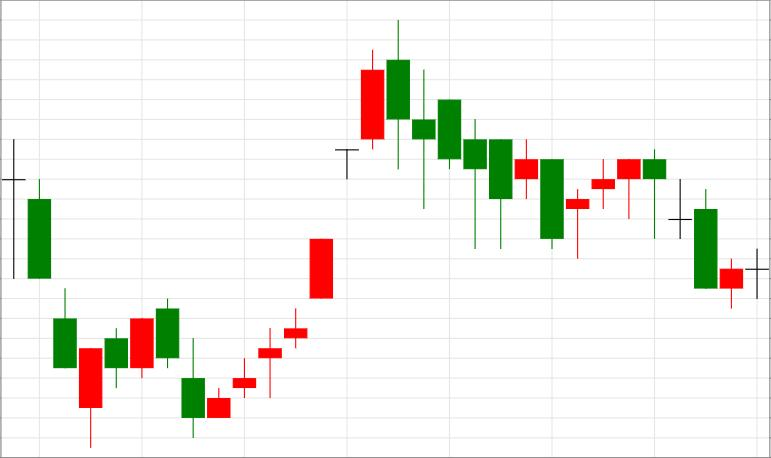bearish_engulfing_fall: (208, 19, 410, 418)
hanging_man_fall: (565, 158, 642, 259)
